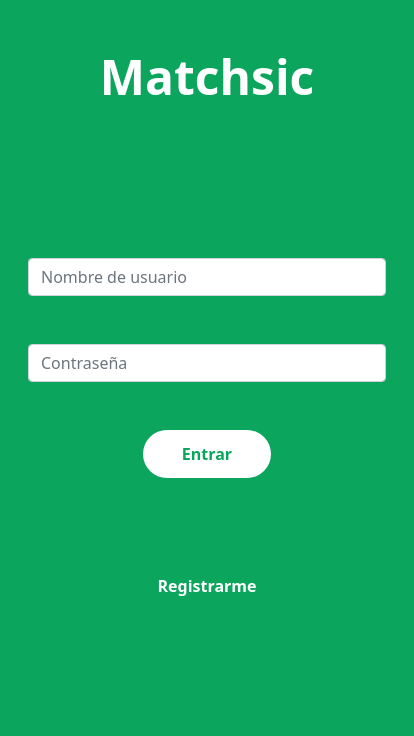
Test: When I click the login button › It should show invalid feedback if there is not an username
Click the button with id "loginButton". click: (207, 454)
box: [143,430,271,478]
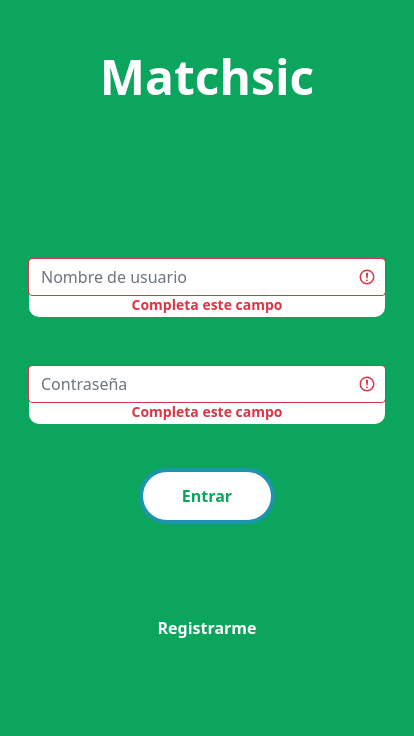
Now the 1st text with class "invalid-feedback" reads "Completa este campo", box [29,294,384,316]
